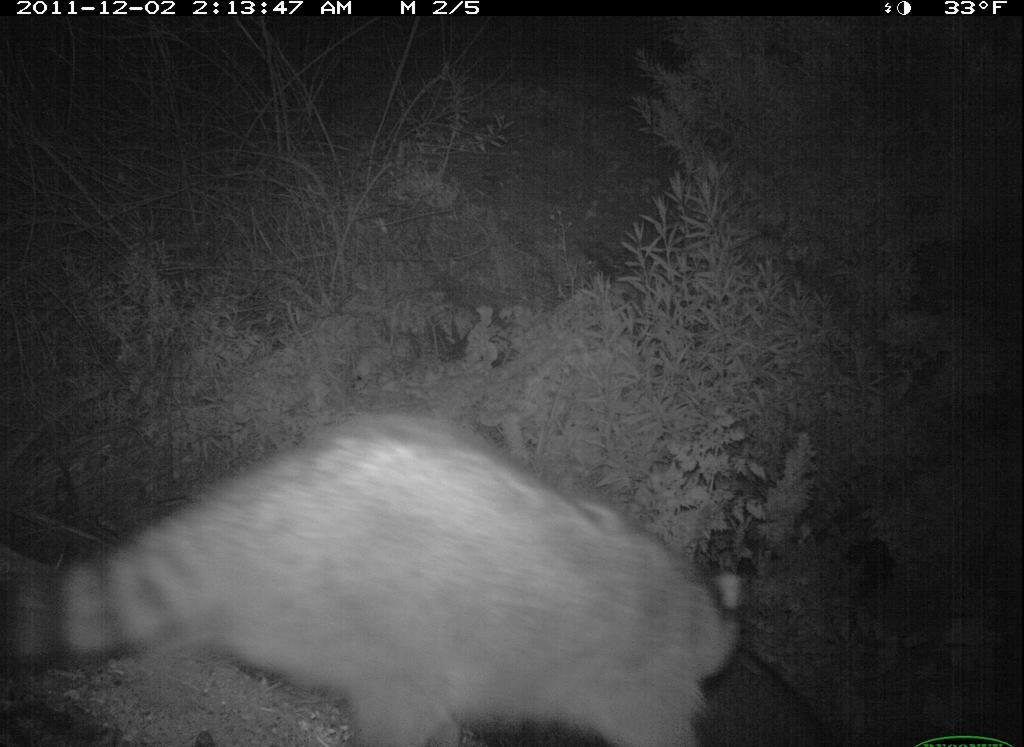raccoon: (1, 411, 765, 747)
